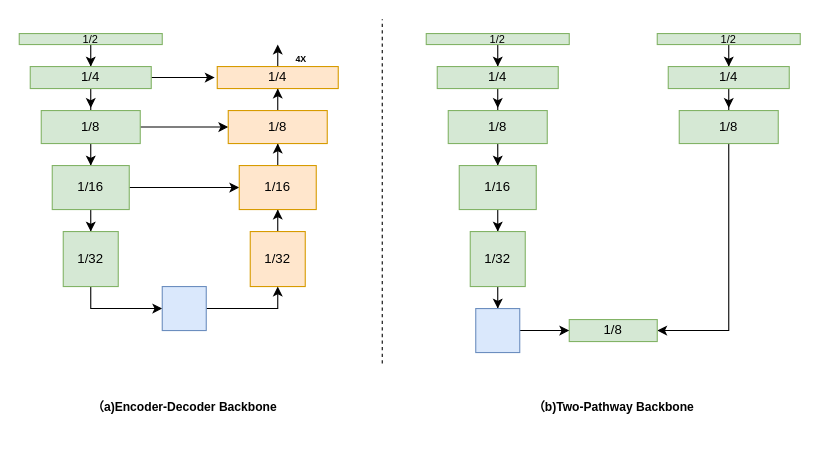
This 820x449 diagram has some shape labels left out. Each missing label, with the centre of its shape:
AVG: the point at 183,308
Context Module: the point at 497,330
